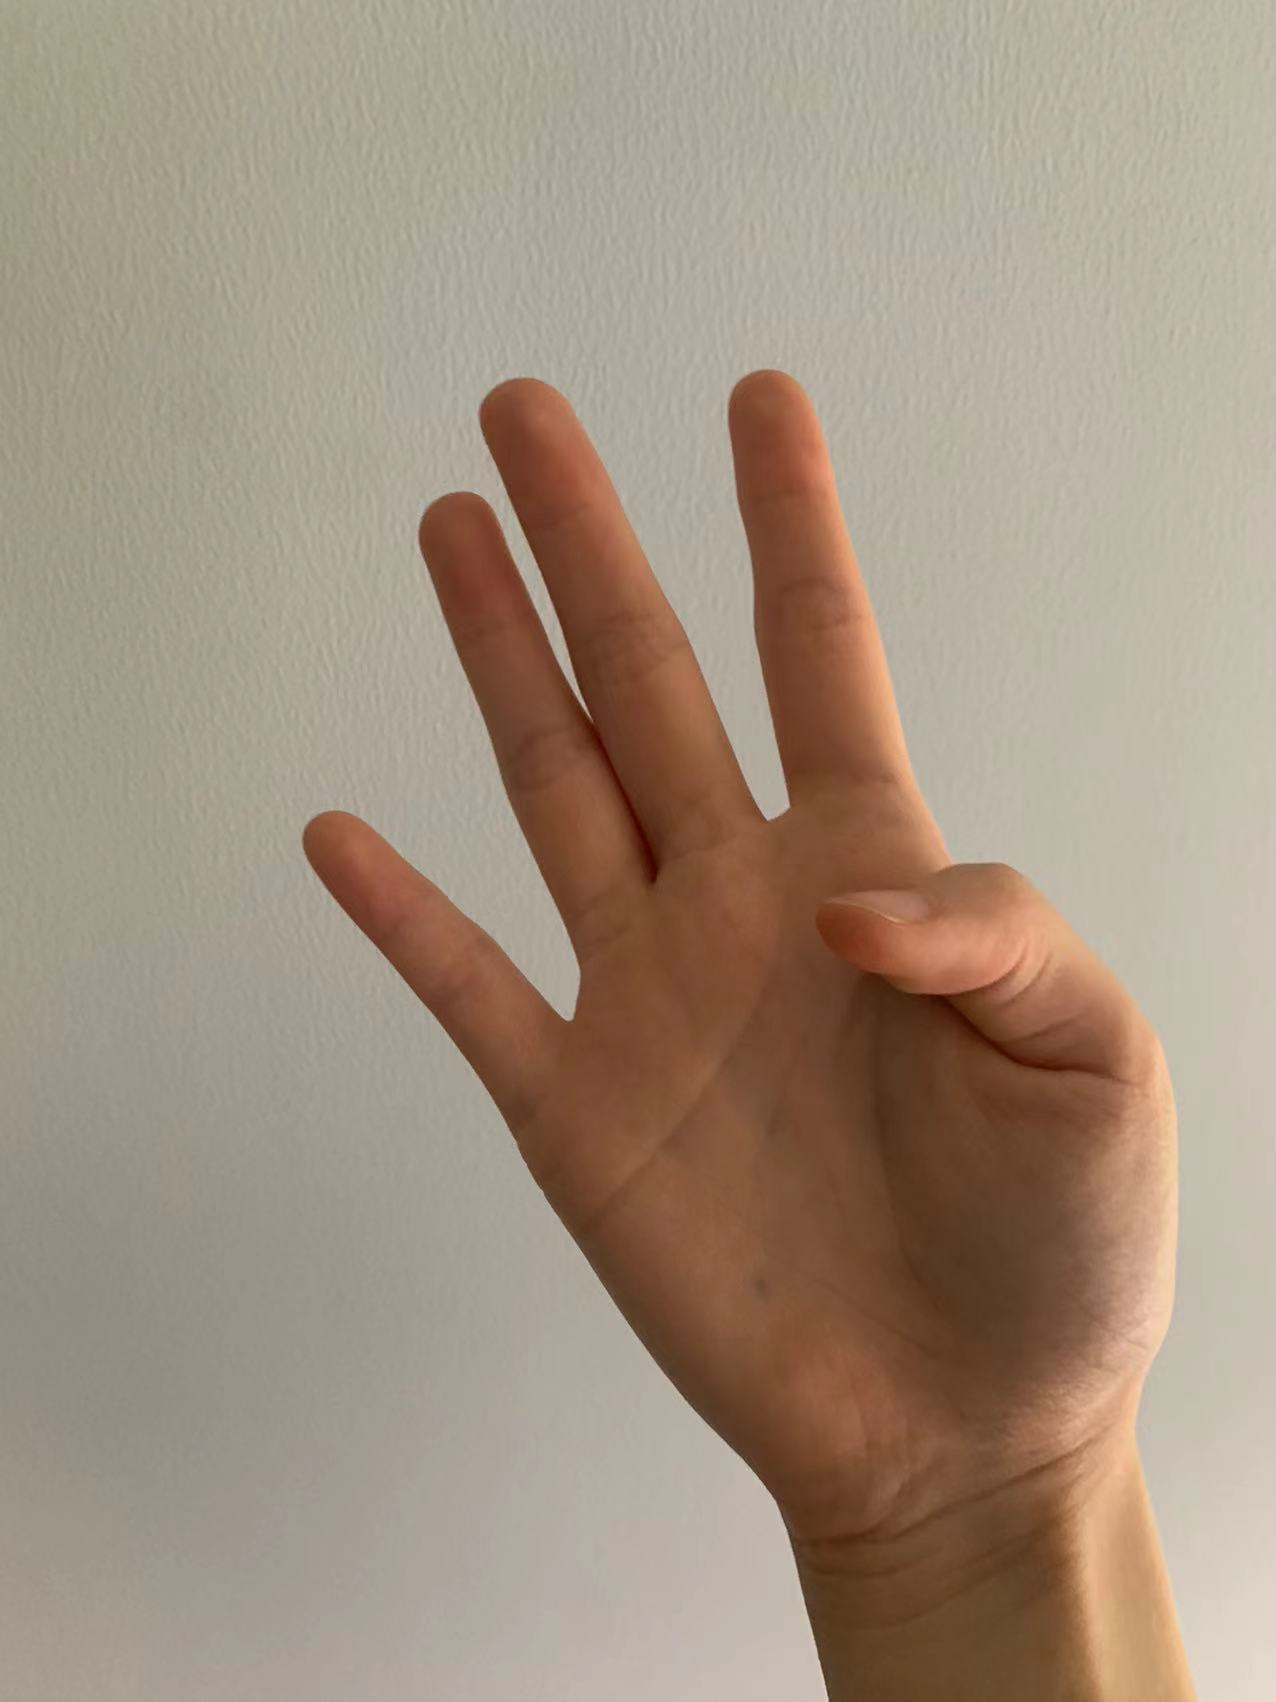right: (281, 352, 1196, 1543)
